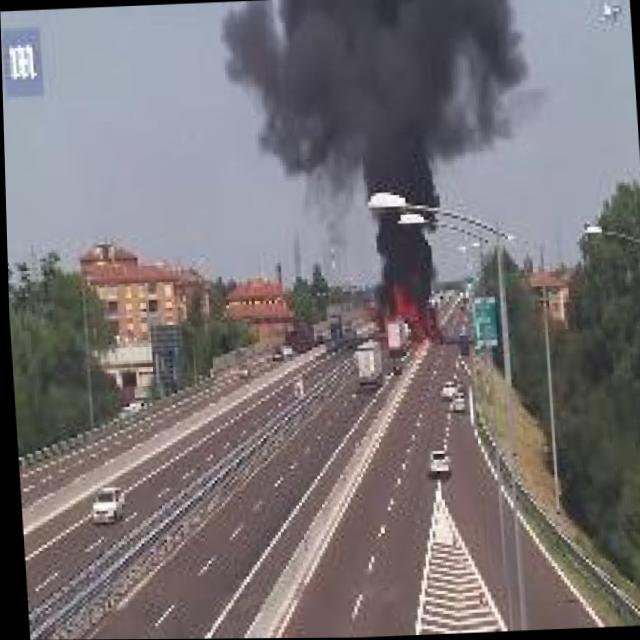fire: (371, 273, 447, 350)
